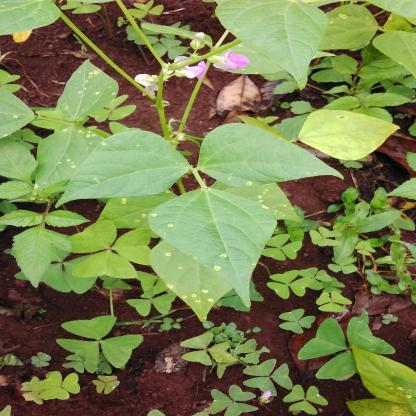Beans_Rust: (150, 187, 282, 306), (54, 129, 192, 205), (197, 123, 341, 189), (155, 246, 238, 322), (212, 176, 303, 226), (53, 60, 120, 126), (38, 127, 104, 186), (97, 189, 178, 228), (315, 9, 380, 50)
